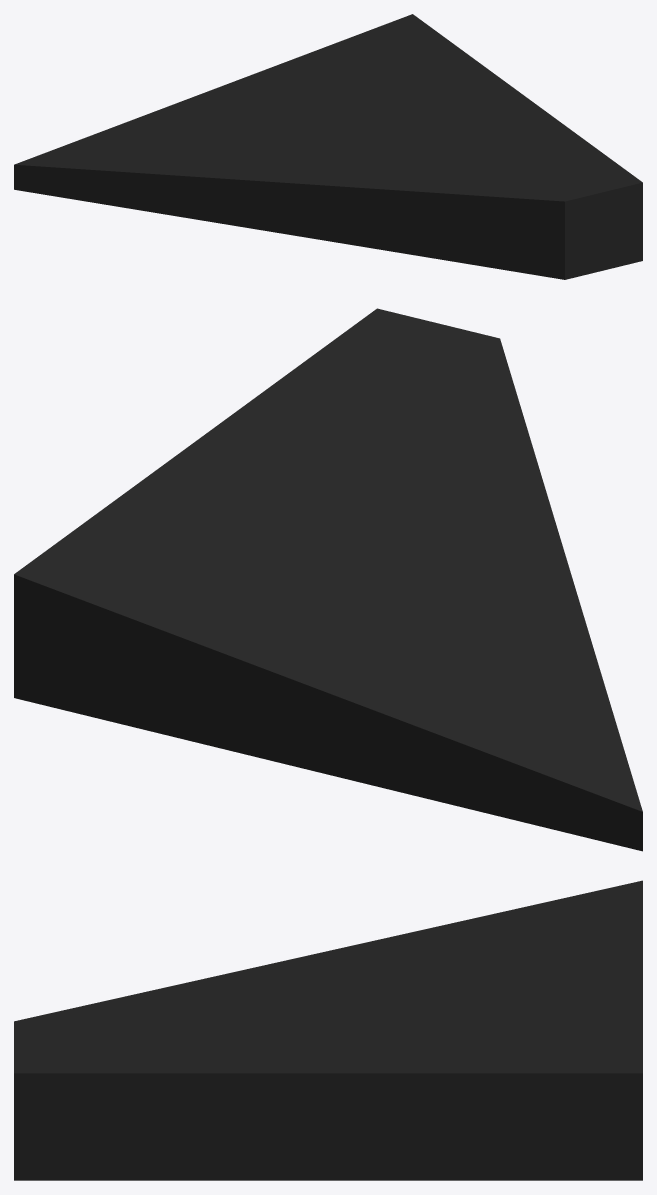
The model's file is wine_bottle_shard.glb.
3 renders of one model, top to bottom at view 1: azimuth 30°, elevation 25°; view 2: azimuth 150°, elevation 25°; view 3: azimuth 270°, elevation 25°, orthographic. The views are drawn at different scales.
Visible parts, largest first — view 1: Cube.003; view 2: Cube.003; view 3: Cube.003.
Part boxes in pixels (<box>): Cube.003: <box>14,14,642,279</box>; Cube.003: <box>14,308,642,851</box>; Cube.003: <box>14,880,642,1180</box>.
Size of the model in its own units: 0.5999 by 0.1128 by 0.5999.
Materials: 1 (1 with a texture image).
